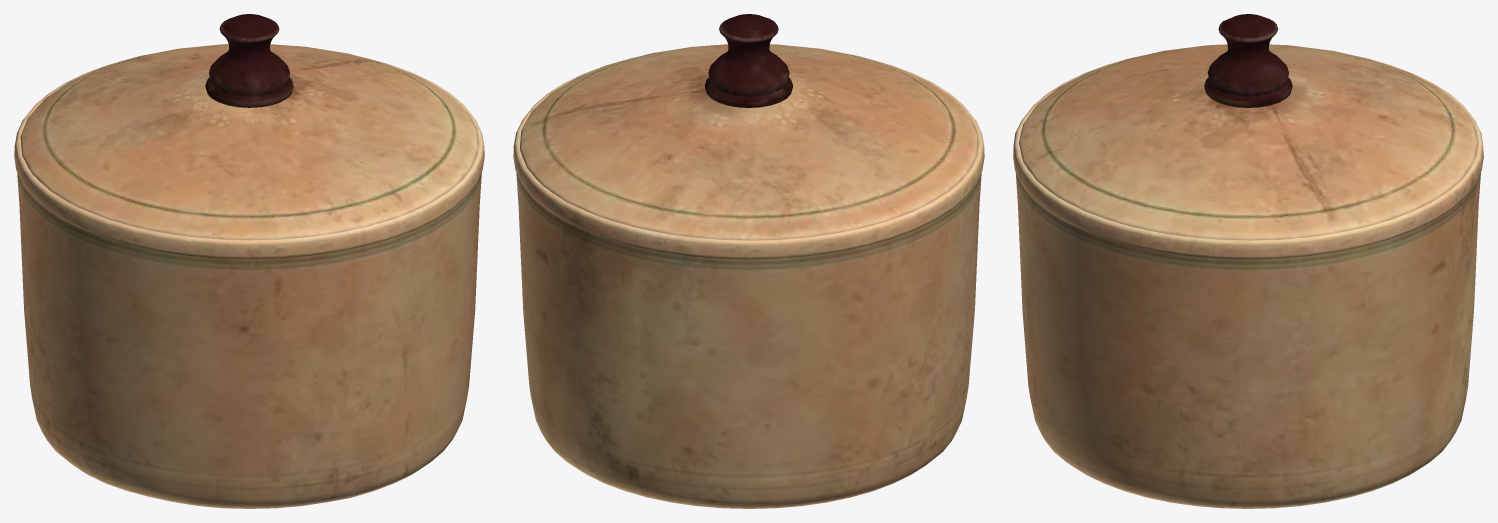
The model's file is brass_pot_01.glb.
3 renders of one model, left to right at view 1: azimuth 30°, elevation 25°; view 2: azimuth 150°, elevation 25°; view 3: azimuth 270°, elevation 25°, orthographic.
Visible parts, largest first — view 1: brass_pot_01; view 2: brass_pot_01; view 3: brass_pot_01.
Part boxes in pixels (bbox=[...]): brass_pot_01: bbox=[14, 14, 484, 508]; brass_pot_01: bbox=[513, 14, 984, 508]; brass_pot_01: bbox=[1013, 14, 1483, 508].
Bounding box in the file's own units: 0.3019 × 0.2909 × 0.3017.
Materials: 1 (1 with a texture image).
